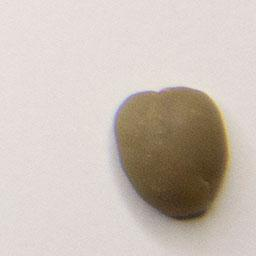premium: (111, 82, 233, 224)
